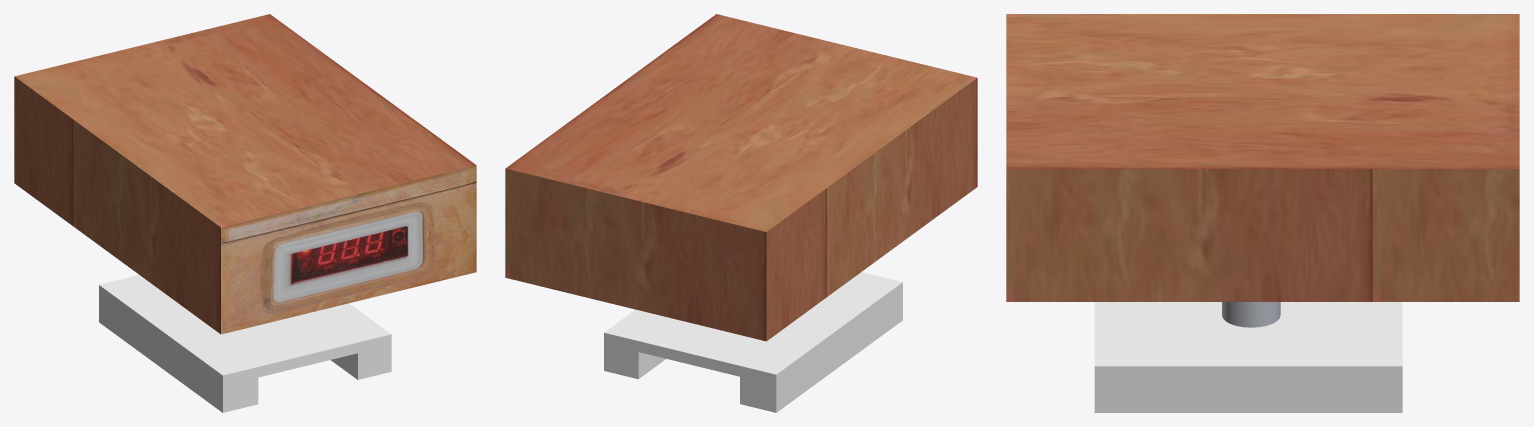
The model's file is gfw15.gltf.
3 views of the same model, side by side, from view 1: azimuth 30°, elevation 25°; view 2: azimuth 150°, elevation 25°; view 3: azimuth 270°, elevation 25° (orthographic). The views are drawn at different scales.
Visible parts, largest first — view 1: Mesh1 Model, Mesh2 Model; view 2: Mesh1 Model, Mesh2 Model; view 3: Mesh1 Model, Mesh2 Model.
Part boxes in pixels (bbox=[...]): Mesh1 Model: bbox=[14, 14, 476, 334]; Mesh2 Model: bbox=[99, 275, 391, 412]; Mesh1 Model: bbox=[505, 14, 977, 341]; Mesh2 Model: bbox=[604, 272, 902, 412]; Mesh1 Model: bbox=[1006, 14, 1519, 327]; Mesh2 Model: bbox=[1094, 302, 1402, 412].
Bounding box in the file's own units: 0.5 × 0.4123 × 0.7.
Materials: 4 (3 with a texture image).
